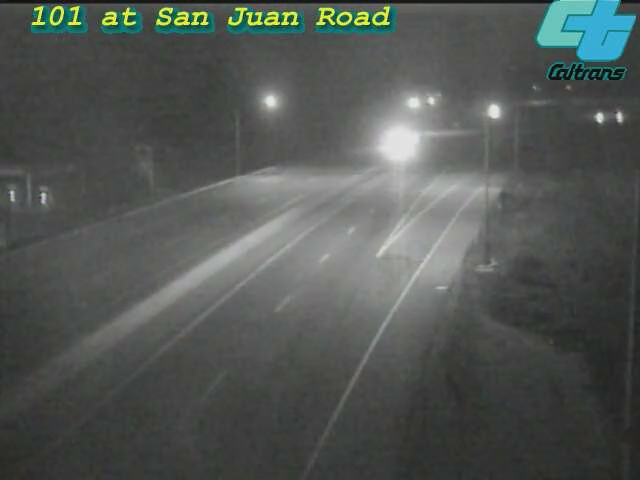vehicle: (373, 117, 423, 167), (577, 91, 627, 141), (465, 88, 515, 138)
